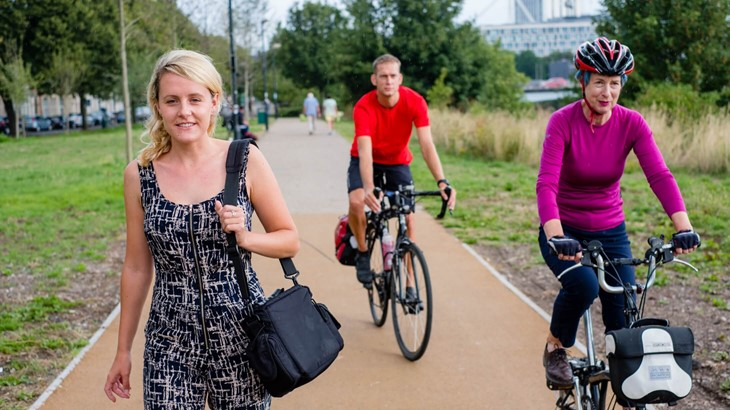Good: (102, 43, 457, 410), (345, 42, 698, 410)
